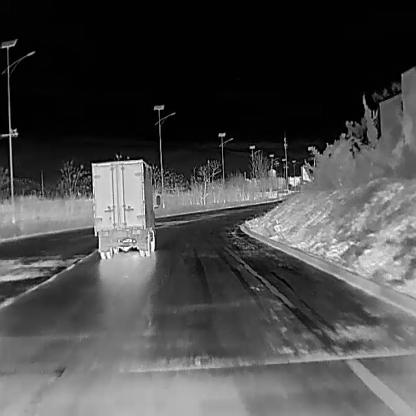truck: (90, 158, 160, 258)
